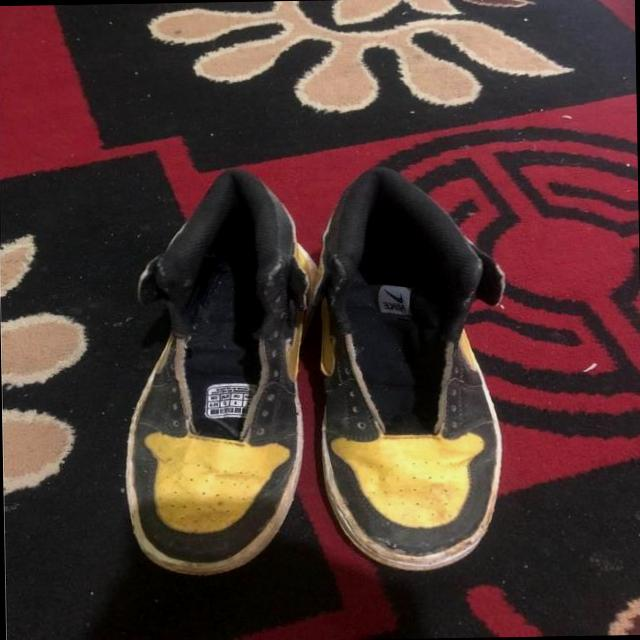nike_fake_jordan: (111, 161, 322, 574), (306, 161, 507, 578)
